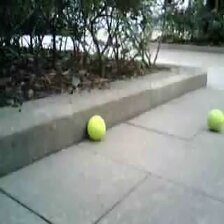tennis: (86, 113, 105, 138), (207, 106, 223, 130)
